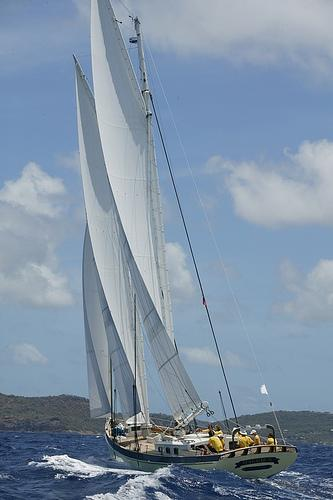Ship: (74, 1, 298, 482)
